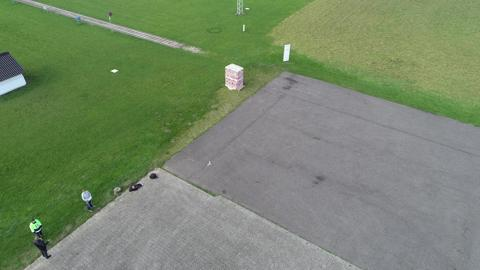RockwoolPallet: (224, 64, 244, 90)
